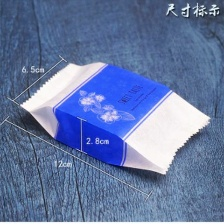snack: (12, 56, 215, 181)
